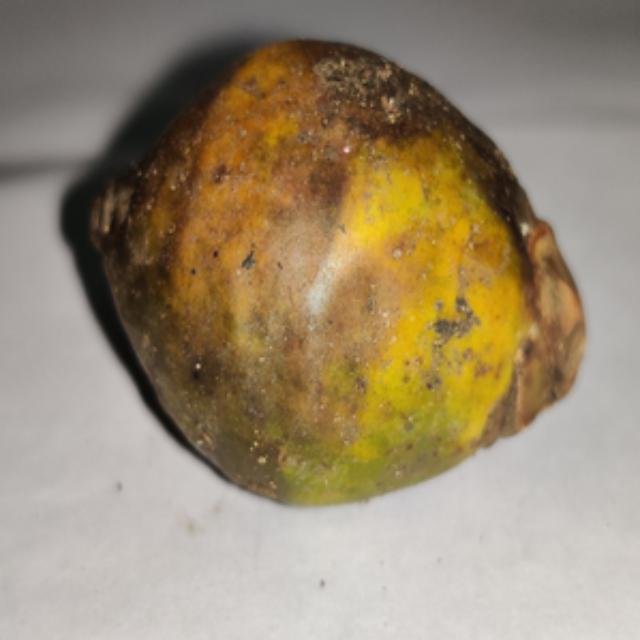damaged: (83, 39, 586, 512)
